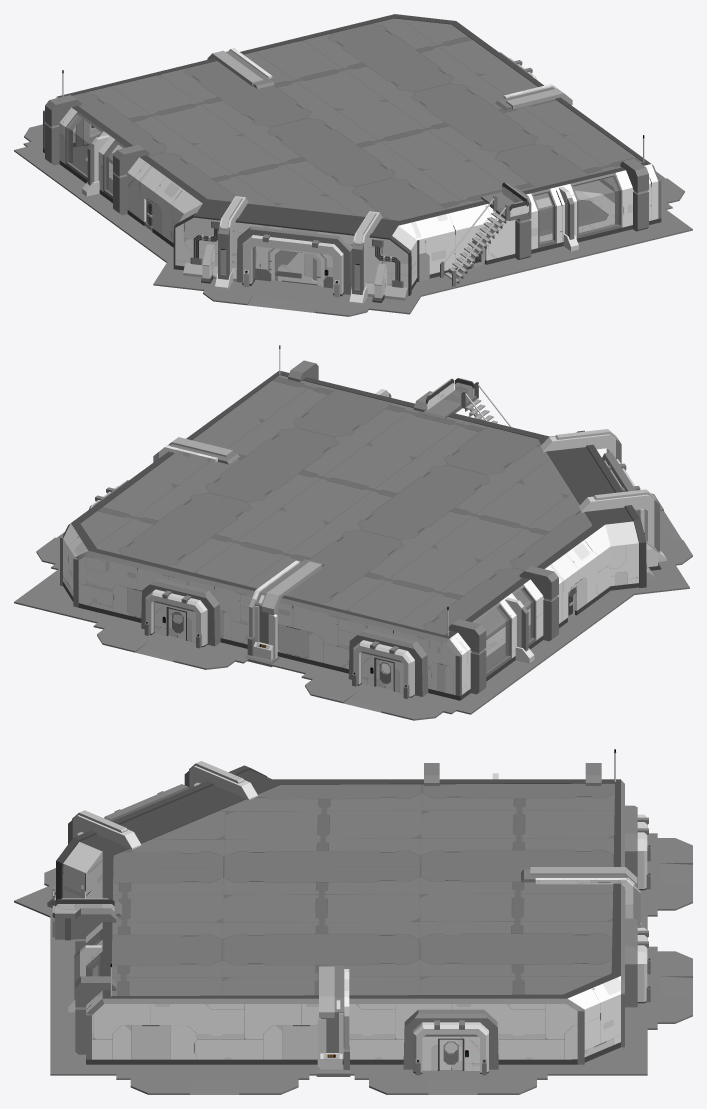
The model's file is SM_Building_L_1.fbx.
3 renders of one model, top to bottom at view 1: azimuth 30°, elevation 25°; view 2: azimuth 150°, elevation 25°; view 3: azimuth 270°, elevation 25°, orthographic. The views are drawn at different scales.
Parts seen in each view (by area): view 1: SM_Building_L_1_Roof, SM_Building_L_1_Main, SM_Building_L_Floor, SM_Building_Extras_Front_1, SM_Stairs_2, SM_Building_L_1_Extras, SM_Building_L_1_Main_Door; view 2: SM_Building_L_1_Roof, SM_Building_L_1_Main, SM_Building_L_Floor, SM_Building_L_1_Extras, SM_Building_Extras_Front_1, SM_Stairs_2, SM_Building_L_1; view 3: SM_Building_L_1_Roof, SM_Building_L_1_Main, SM_Building_L_Floor, SM_Building_L_1_Extras, SM_Building_Extras_Front_1, SM_Stairs_2, SM_Building_L_1.
Boxes of the visible parts, <box> form: SM_Building_L_1_Roof: <box>72,18,642,220</box>; SM_Building_L_1_Main: <box>43,14,661,297</box>; SM_Building_L_Floor: <box>14,124,692,316</box>; SM_Building_Extras_Front_1: <box>183,196,408,304</box>; SM_Stairs_2: <box>440,182,528,286</box>; SM_Building_L_1_Extras: <box>207,48,572,110</box>; SM_Building_L_1_Main_Door: <box>274,250,320,285</box>; SM_Building_L_1_Roof: <box>80,375,592,634</box>; SM_Building_L_1_Main: <box>60,345,646,700</box>; SM_Building_L_Floor: <box>14,493,692,720</box>; SM_Building_L_1_Extras: <box>153,437,324,667</box>; SM_Building_Extras_Front_1: <box>540,429,666,580</box>; SM_Stairs_2: <box>422,378,511,427</box>; SM_Building_L_1: <box>169,608,393,690</box>; SM_Building_L_1_Roof: <box>111,783,614,995</box>; SM_Building_L_1_Main: <box>56,749,650,1075</box>; SM_Building_L_Floor: <box>14,825,692,1094</box>; SM_Building_L_1_Extras: <box>316,867,642,1076</box>; SM_Building_Extras_Front_1: <box>47,761,257,908</box>; SM_Stairs_2: <box>52,885,121,940</box>; SM_Building_L_1: <box>439,1039,462,1069</box>.
Bounding box in the file's own units: 3809 × 730 × 3809.
